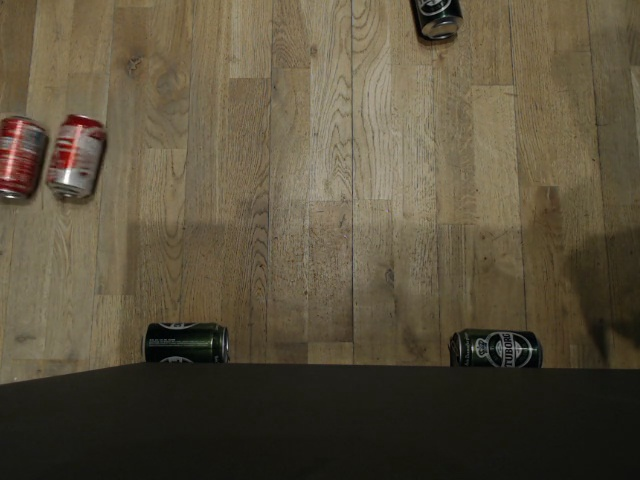beer: (137, 319, 230, 364), (447, 327, 542, 370), (408, 0, 463, 43)
cola: (46, 112, 108, 197), (0, 113, 48, 201)
